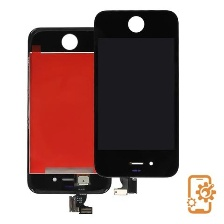phone: (89, 8, 182, 182), (24, 23, 113, 198)
